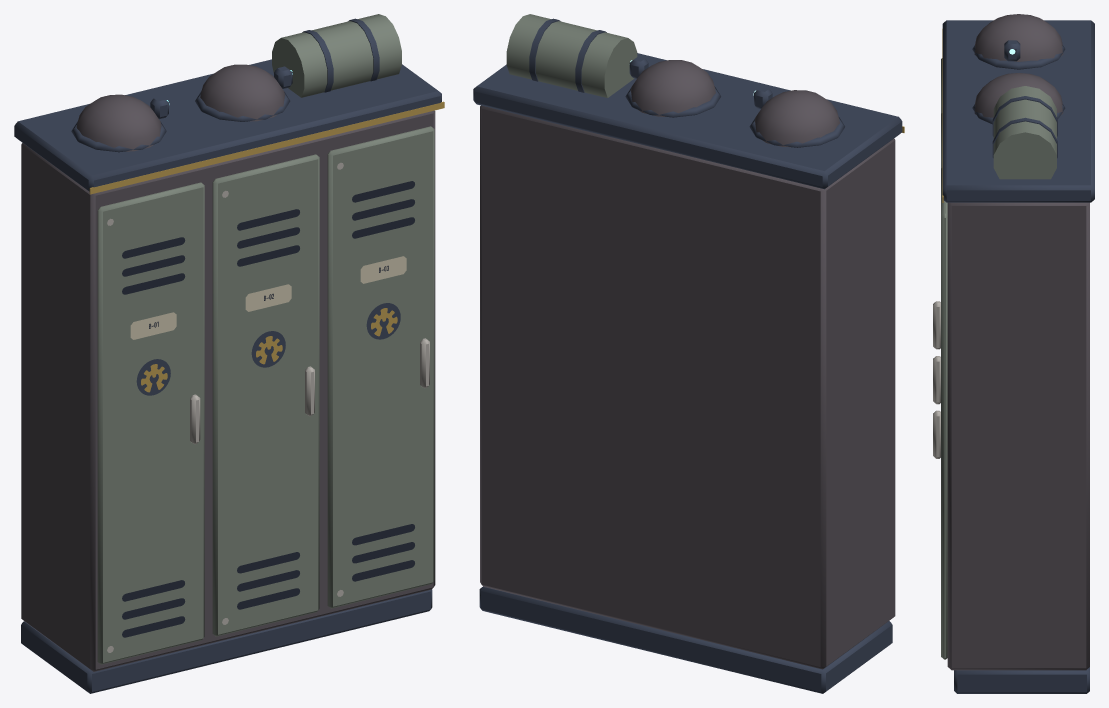
Rendered from ship_locker.glb.
3 views of the same model, side by side, from view 1: azimuth 30°, elevation 25°; view 2: azimuth 150°, elevation 25°; view 3: azimuth 270°, elevation 25° (orthographic). The views are drawn at different scales.
Visible parts, largest first — view 1: ship_locker_vc, ship_locker_vcd, ship_locker_vcd_fine, ship_locker_vc_fine, ship_locker_vc_detail, ship_locker_vcd_detail; view 2: ship_locker_vc, ship_locker_vcd, ship_locker_vcd_detail; view 3: ship_locker_vc, ship_locker_vcd, ship_locker_vcd_detail, ship_locker_vc_detail.
Boxes of the visible parts, left/top/right/bottom form: ship_locker_vc: left=21, top=14, right=435, bottom=671; ship_locker_vcd: left=14, top=59, right=441, bottom=693; ship_locker_vcd_fine: left=122, top=181, right=414, bottom=637; ship_locker_vc_fine: left=107, top=162, right=406, bottom=652; ship_locker_vc_detail: left=89, top=101, right=444, bottom=444; ship_locker_vcd_detail: left=71, top=18, right=379, bottom=152; ship_locker_vc: left=480, top=14, right=895, bottom=669; ship_locker_vcd: left=473, top=53, right=902, bottom=693; ship_locker_vcd_detail: left=529, top=18, right=844, bottom=147; ship_locker_vc: left=941, top=14, right=1089, bottom=670; ship_locker_vcd: left=942, top=20, right=1094, bottom=693; ship_locker_vcd_detail: left=972, top=40, right=1065, bottom=158; ship_locker_vc_detail: left=933, top=29, right=943, bottom=458.
Size of the model in its own units: 1.23 by 1.9 by 0.5.
